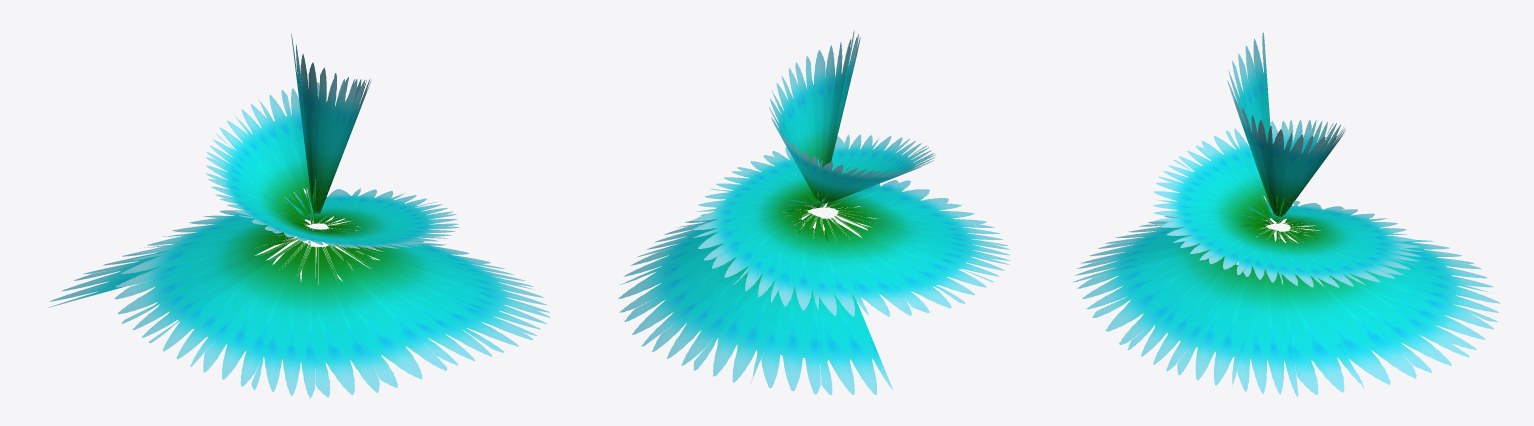
The model's file is CoralWorm_LightBlue.FBX.
3 renders of one model, left to right at view 1: azimuth 30°, elevation 25°; view 2: azimuth 150°, elevation 25°; view 3: azimuth 270°, elevation 25°, orthographic. The views are drawn at different scales.
Visible parts, largest first — view 1: CoralWorm_LightBlue; view 2: CoralWorm_LightBlue; view 3: CoralWorm_LightBlue.
Boxes of the visible parts, bbox=[...] form: CoralWorm_LightBlue: bbox=[48, 33, 550, 398]; CoralWorm_LightBlue: bbox=[618, 30, 1009, 395]; CoralWorm_LightBlue: bbox=[1073, 32, 1500, 396].
Size of the model in its own units: 113 by 87.79 by 124.
